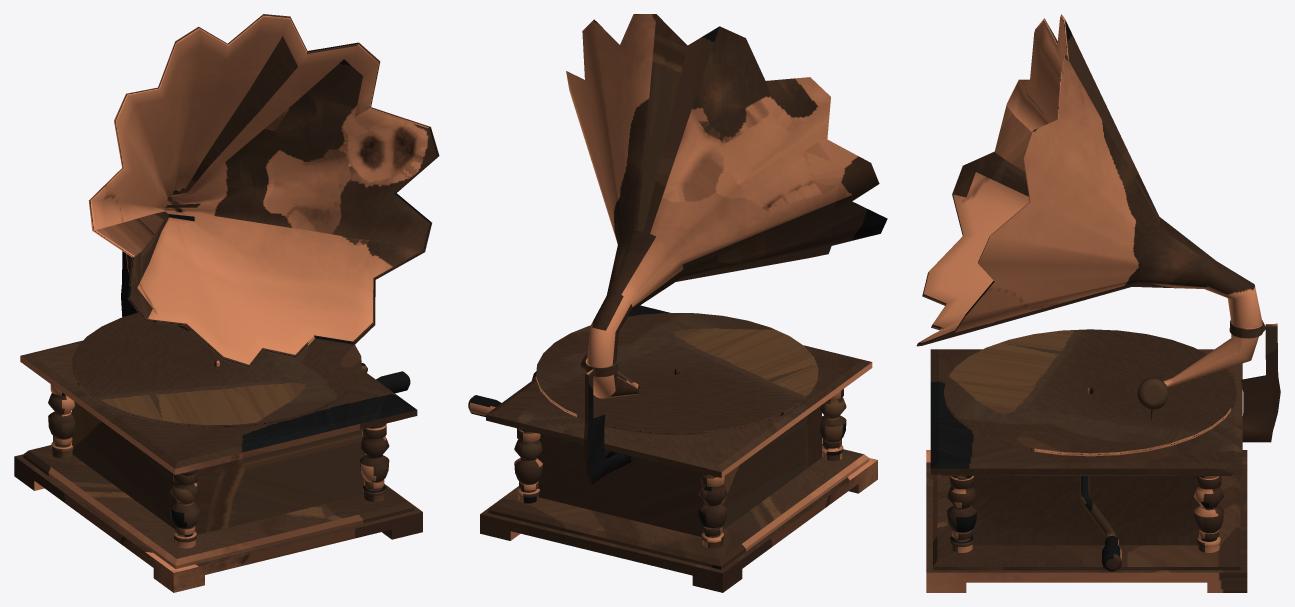
Rendered from PhonographFixed.fbx.
3 renders of one model, left to right at view 1: azimuth 30°, elevation 25°; view 2: azimuth 150°, elevation 25°; view 3: azimuth 270°, elevation 25°, orthographic. The views are drawn at different scales.
Parts seen in each view (by area): view 1: AnyConv.com__PhonographUVFix (1); view 2: AnyConv.com__PhonographUVFix (1); view 3: AnyConv.com__PhonographUVFix (1).
Part boxes in pixels (<box>): AnyConv.com__PhonographUVFix (1): <box>14,14,439,592</box>; AnyConv.com__PhonographUVFix (1): <box>468,14,887,592</box>; AnyConv.com__PhonographUVFix (1): <box>916,14,1280,592</box>.
Size of the model in its own units: 1353 by 1735 by 1151.
